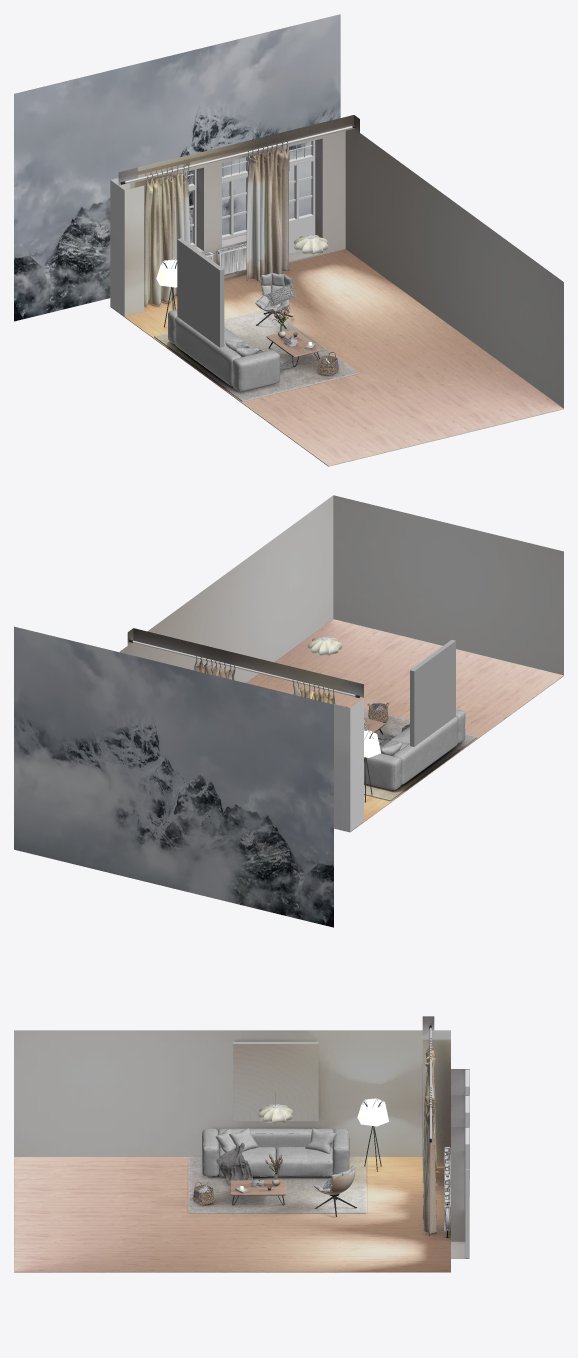
File: cozy-living-room.glb
3 renders of one model, top to bottom at view 1: azimuth 30°, elevation 25°; view 2: azimuth 150°, elevation 25°; view 3: azimuth 270°, elevation 25°, orthographic. The views are drawn at different scales.
Parts seen in each view (by area): view 1: Plane.003_Material.004_0, Cube_Material_0, Cube.019_Birch Wood Flooring English_0, CURTAIN 2.008_Material.001_0, Cube.007_Material.023_0, Plane_Material.021_0, Leather Sofa_Fabric.002_0, Cube.034_Fabric.001_0, Cube.021_Material.009_0, Sphere.001_Leather Fabric 01.002_0; view 2: Plane.003_Material.004_0, Cube_Material_0, Cube.019_Birch Wood Flooring English_0, Cube.007_Material.023_0, Leather Sofa_Fabric.002_0, Plane_Material.021_0, CURTAIN 2.008_Material.001_0, Sphere.001_Leather Fabric 01.002_0; view 3: Cube_Material_0, Cube.019_Birch Wood Flooring English_0, Leather Sofa_Fabric.002_0, Plane.001_Material.013_0, Plane_Material.021_0, Cube.007_Material.023_0, CURTAIN 2.008_Material.001_0, Plane.002_Tecido.005_0, Cube.021_Material.009_0, Circle.005_Leather Fabric 01_0, Sphere.001_Leather Fabric 01.002_0.
Part boxes in pixels (x1,y1,x2,y2): Plane.003_Material.004_0: (14,14,340,321); Cube_Material_0: (110,115,563,408); Cube.019_Birch Wood Flooring English_0: (110,249,563,466); CURTAIN 2.008_Material.001_0: (144,141,289,306); Cube.007_Material.023_0: (120,125,356,368); Plane_Material.021_0: (154,310,358,401); Leather Sofa_Fabric.002_0: (168,309,280,391); Cube.034_Fabric.001_0: (255,272,293,312); Cube.021_Material.009_0: (266,329,322,357); Sphere.001_Leather Fabric 01.002_0: (293,234,328,254); Plane.003_Material.004_0: (14,626,333,927); Cube_Material_0: (120,495,563,831); Cube.019_Birch Wood Flooring English_0: (246,619,563,832); Cube.007_Material.023_0: (129,639,455,746); Leather Sofa_Fabric.002_0: (364,709,465,790); Plane_Material.021_0: (364,709,477,800); CURTAIN 2.008_Material.001_0: (194,656,335,704); Sphere.001_Leather Fabric 01.002_0: (307,636,342,655); Cube_Material_0: (14,1016,469,1258); Cube.019_Birch Wood Flooring English_0: (14,1157,450,1272); Leather Sofa_Fabric.002_0: (202,1128,349,1176); Plane.001_Material.013_0: (233,1044,318,1121); Plane_Material.021_0: (188,1156,366,1213); Cube.007_Material.023_0: (194,1025,469,1258); CURTAIN 2.008_Material.001_0: (422,1038,436,1236); Plane.002_Tecido.005_0: (216,1142,253,1184); Cube.021_Material.009_0: (230,1180,286,1195); Circle.005_Leather Fabric 01_0: (357,1098,388,1126); Sphere.001_Leather Fabric 01.002_0: (258,1093,293,1123).
Size of the model in its own units: 7.87 by 5.24 by 11.46.
Materials: 23 (23 with a texture image).
